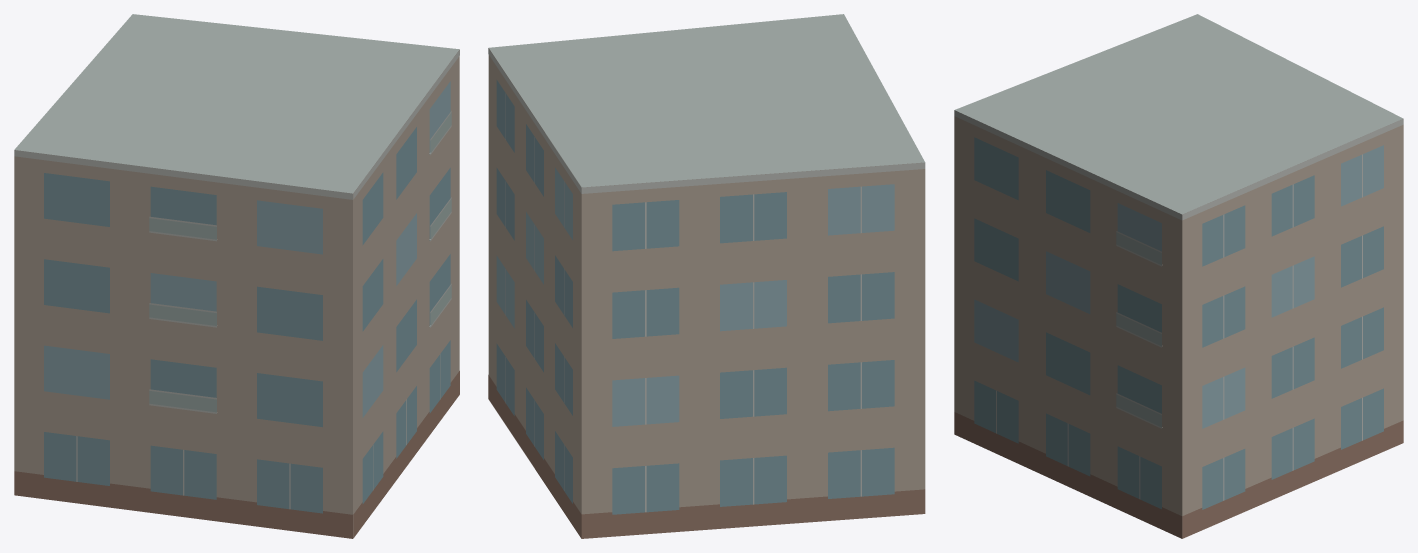
File: survey-upis-32837617.glb
The picture shows the model from 3 angles, left to right: view 1: azimuth 30°, elevation 25°; view 2: azimuth 150°, elevation 25°; view 3: azimuth 270°, elevation 25°; orthographic projection. The views are drawn at different scales.
Visible parts, largest first — view 1: survey-upis-32837617.tmp; view 2: survey-upis-32837617.tmp; view 3: survey-upis-32837617.tmp.
Part boxes in pixels (x1,y1,x2,y2): survey-upis-32837617.tmp: (14,14,459,538); survey-upis-32837617.tmp: (488,14,925,538); survey-upis-32837617.tmp: (954,14,1403,538).
Bounding box in the file's own units: 17.5 × 13.2 × 16.57.
